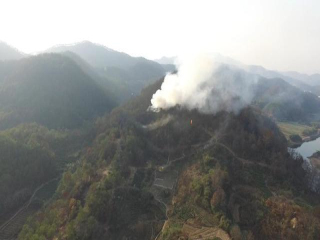smoke: (147, 48, 254, 118)
